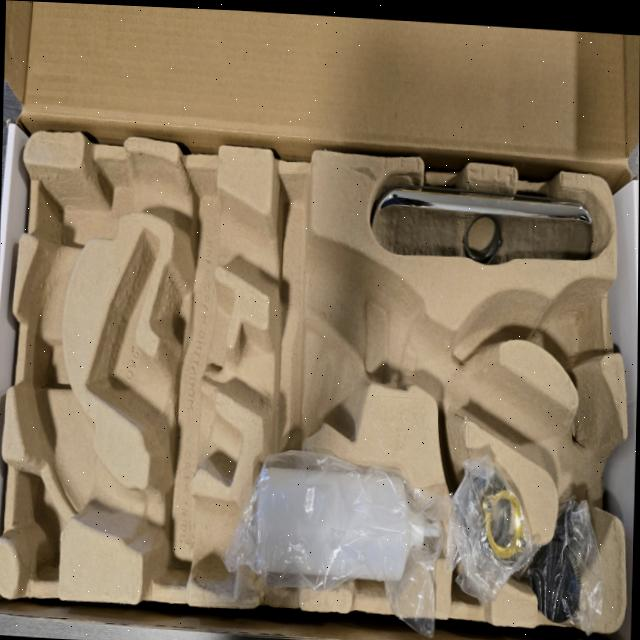1m: (21, 150, 623, 590)
2m: (88, 227, 242, 489)
3: (256, 466, 445, 583)
4: (369, 185, 593, 266)
5m: (541, 285, 595, 367)
6: (450, 452, 537, 603)
7: (528, 496, 605, 638)
